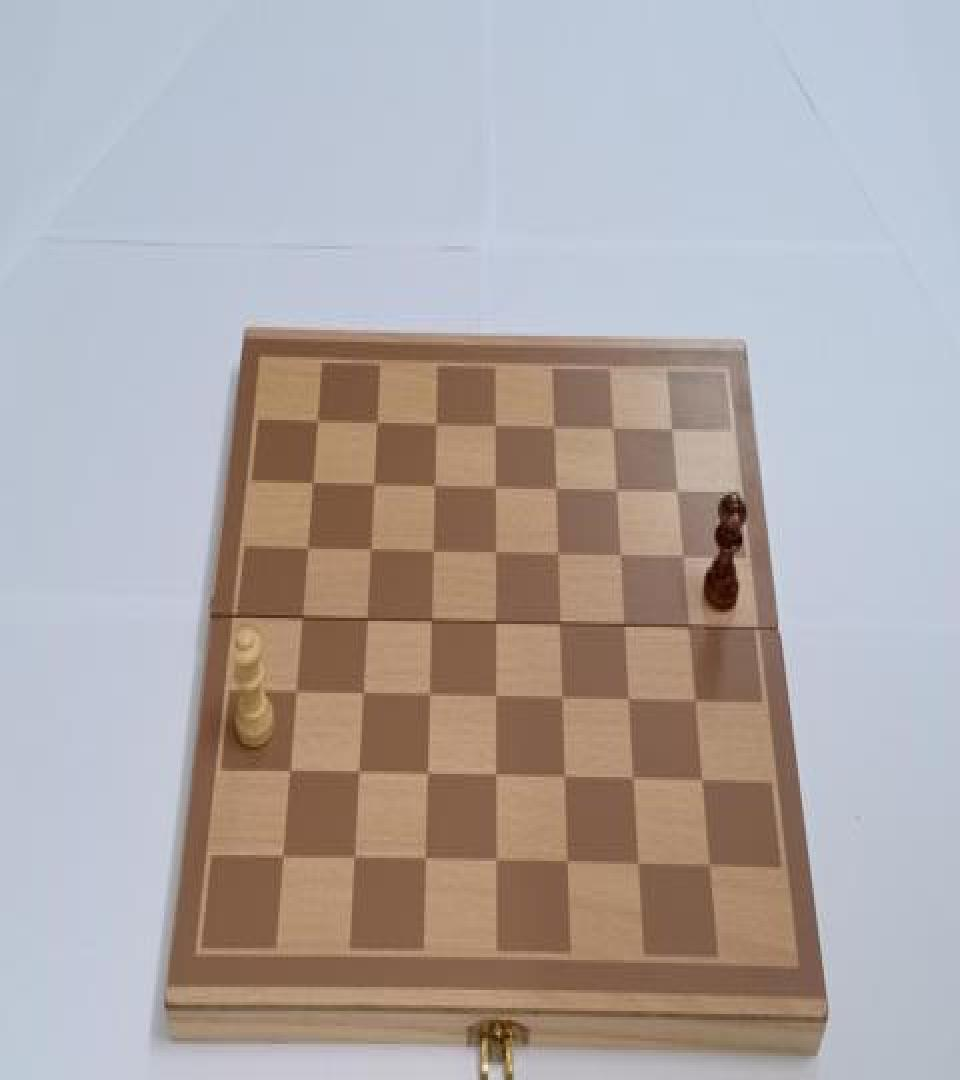xcorner: (308, 412, 326, 440), (281, 760, 299, 788), (547, 478, 565, 506), (608, 478, 626, 506), (663, 418, 681, 446), (304, 474, 322, 501), (298, 540, 316, 567), (293, 609, 311, 636), (287, 683, 305, 710), (274, 844, 292, 871), (368, 414, 386, 441), (361, 540, 379, 567), (357, 609, 375, 636), (354, 684, 372, 711), (350, 762, 368, 789), (345, 846, 363, 873), (427, 414, 445, 441), (422, 610, 440, 637), (420, 684, 438, 711), (486, 415, 504, 442), (486, 477, 504, 504), (487, 612, 505, 639), (545, 415, 563, 442), (549, 543, 567, 570), (551, 612, 569, 639), (556, 765, 574, 792), (559, 849, 577, 876), (604, 417, 622, 444), (612, 545, 630, 572), (620, 687, 638, 714), (625, 765, 643, 792), (630, 851, 648, 878), (669, 480, 687, 507), (674, 545, 692, 572), (687, 689, 705, 716), (694, 766, 712, 793), (702, 851, 720, 878), (364, 476, 382, 502), (425, 476, 443, 502), (424, 542, 442, 568), (419, 764, 437, 790), (417, 848, 435, 874), (486, 542, 504, 568), (487, 686, 505, 712), (487, 764, 505, 790), (488, 848, 506, 874), (554, 686, 572, 712), (616, 614, 634, 640), (681, 614, 699, 640)
